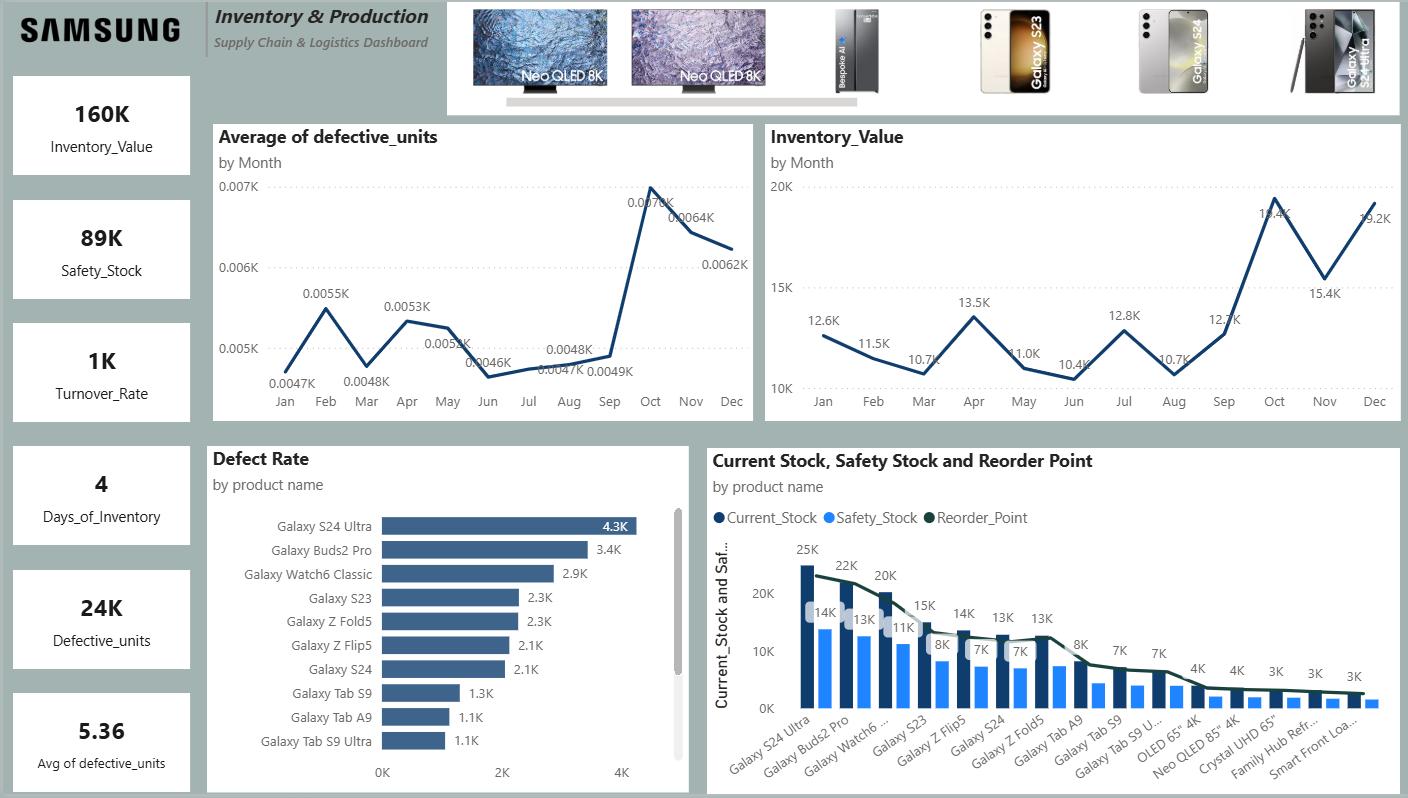

Layout of this report page (visuals, bound fields, positions):
{"tool":"powerbi","page":{"name":"Inventory","canvas":[1280,720],"ordinal":3},"visuals":[{"type":"shape","title":"Inventory & Production","box":[192.1,0,244.2,50.3],"z":0},{"type":"shape","box":[167,0,35.9,50.3],"z":1000},{"type":"image","box":[0,0,169.7,50.3],"z":2000},{"type":"cardVisual","fields":{"Data":["MeasuresTable.Safety_Stock"]},"box":[9,179.6,161,90],"z":3000},{"type":"cardVisual","fields":{"Data":["MeasuresTable.Turnover_Rate"]},"box":[9,291.8,161,90],"z":4000},{"type":"cardVisual","fields":{"Data":["Avg(fact_production.defective_units)"]},"box":[9,628.4,161,90],"z":5000},{"type":"cardVisual","fields":{"Data":["MeasuresTable.Days_of_Inventory"]},"box":[9,404,161,90],"z":6000},{"type":"cardVisual","fields":{"Data":["MeasuresTable.Inventory_Value"]},"box":[9,67.3,161,90],"z":7000},{"type":"cardVisual","fields":{"Data":["Sum(fact_production.defective_units)"]},"box":[9,516.2,161,90],"z":8000},{"type":"clusteredBarChart","title":"Defect Rate","fields":{"Y":["MeasuresTable.Defect_Rate"],"Category":["dim_product.product_name"]},"box":[185,403.8,437.5,315],"z":9000},{"type":"lineClusteredColumnComboChart","title":"Current Stock, Safety Stock and Reorder Point","fields":{"Category":["dim_product.product_name"],"Y":["MeasuresTable.Inventory_Value","MeasuresTable.Safety_Stock"],"Y2":["MeasuresTable.Reorder_Point"]},"box":[640,405,630,315],"z":10000},{"type":"lineChart","fields":{"Y":["Avg(fact_production.defective_units)"],"Category":["dim_date.Month_Short"]},"box":[191.2,111.2,491.2,270],"z":11000},{"type":"lineChart","fields":{"Category":["dim_date.Month_Short"],"Y":["MeasuresTable.Inventory_Value"]},"box":[692.5,111.2,577.5,270],"z":12000},{"type":"advancedSlicerVisual","fields":{"Values":["dim_product.product_name"]},"box":[403.8,0,866.2,102.5],"z":13000}]}

Visuals, with their boxes in screenshot pixels (x1, y1, x2, y2), scaled from the page's 1280x720 canvas onto the 1408x798 screenshot:
"Inventory & Production" shape: box(211, 0, 480, 56)
shape: box(184, 0, 223, 56)
image: box(0, 0, 187, 56)
cardVisual - MeasuresTable.Safety_Stock: box(10, 199, 187, 299)
cardVisual - MeasuresTable.Turnover_Rate: box(10, 323, 187, 423)
cardVisual - Avg(fact_production.defective_units): box(10, 696, 187, 796)
cardVisual - MeasuresTable.Days_of_Inventory: box(10, 448, 187, 548)
cardVisual - MeasuresTable.Inventory_Value: box(10, 75, 187, 174)
cardVisual - Sum(fact_production.defective_units): box(10, 572, 187, 672)
"Defect Rate" clusteredBarChart: box(204, 448, 685, 797)
"Current Stock, Safety Stock and Reorder Point" lineClusteredColumnComboChart: box(704, 449, 1397, 797)
lineChart - Avg(fact_production.defective_units) x dim_date.Month_Short: box(210, 123, 751, 422)
lineChart - dim_date.Month_Short x MeasuresTable.Inventory_Value: box(762, 123, 1397, 422)
advancedSlicerVisual - dim_product.product_name: box(444, 0, 1397, 114)
